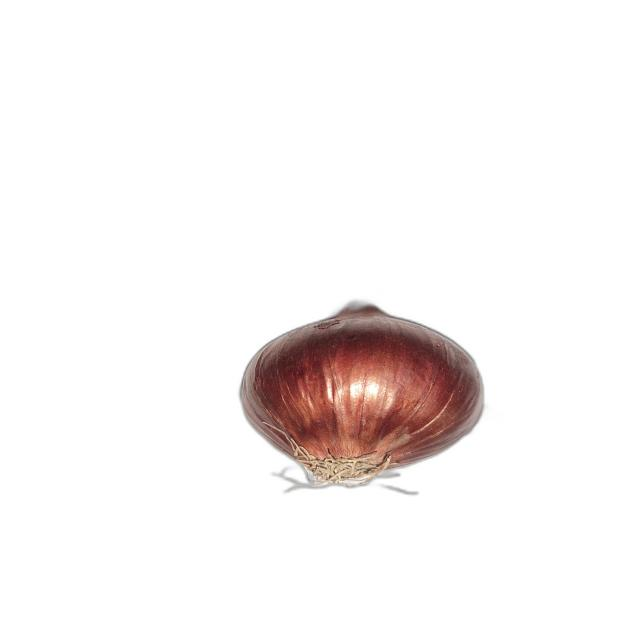onion: (242, 303, 485, 489)
